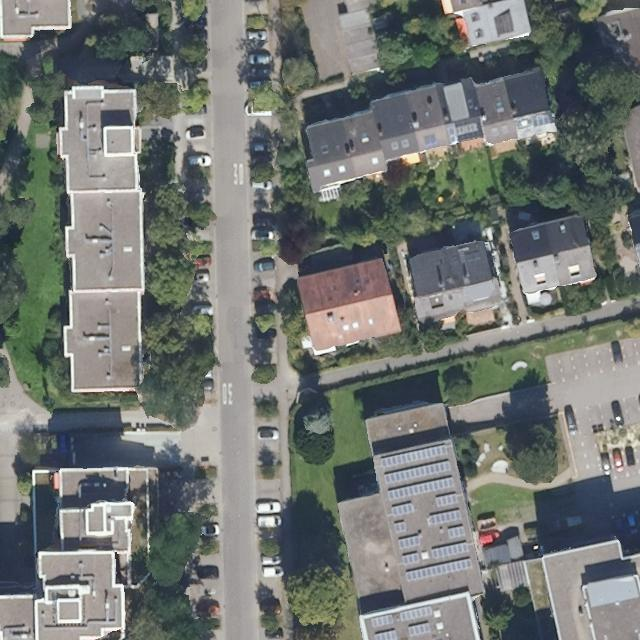PV: (404, 557, 475, 583), (387, 476, 456, 502), (383, 460, 452, 486), (380, 444, 450, 469), (431, 541, 470, 560), (397, 604, 434, 624), (426, 509, 463, 528), (406, 621, 432, 638), (397, 534, 422, 551), (434, 492, 459, 509), (369, 613, 395, 629), (390, 502, 416, 518), (447, 524, 467, 540), (401, 551, 422, 566), (375, 629, 399, 639), (532, 115, 550, 128), (446, 126, 457, 144), (393, 521, 408, 534), (424, 134, 436, 148)
